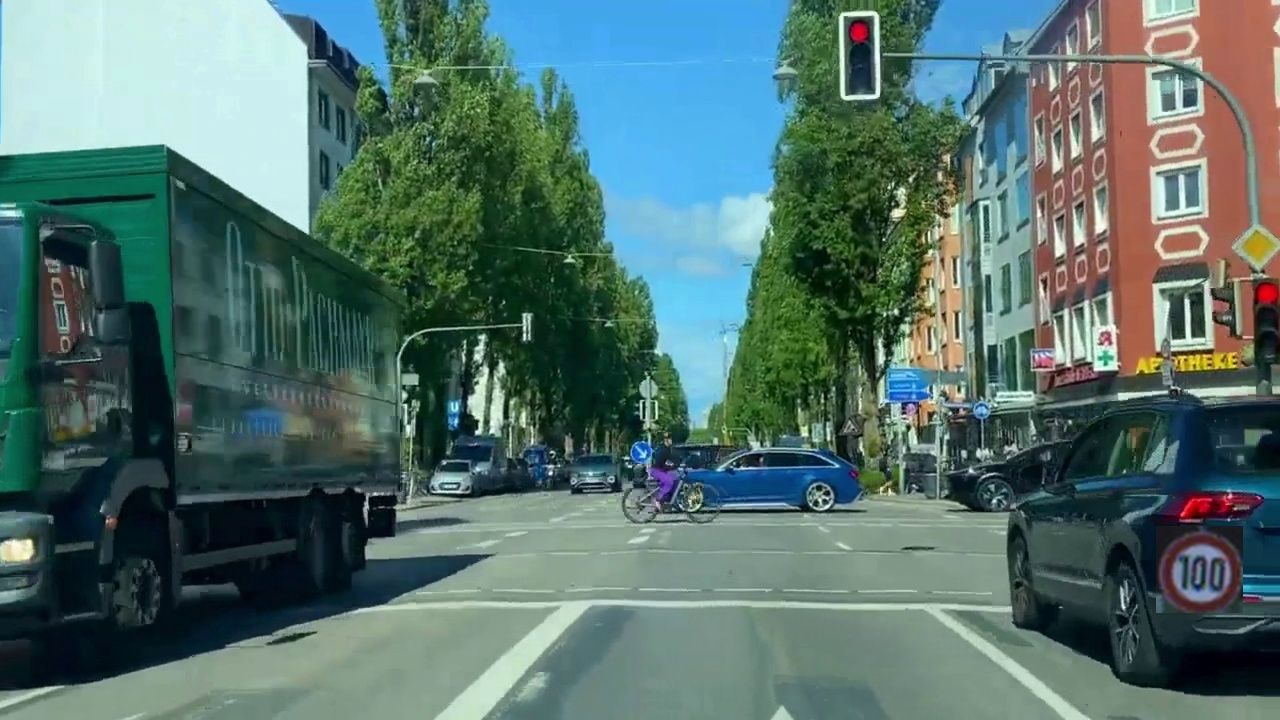Speed 100: (1156, 526, 1243, 613)
